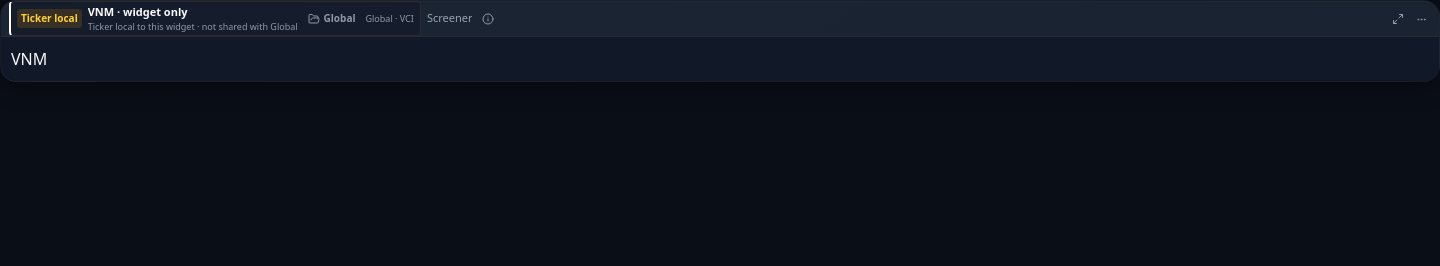
Test: a restored detached ticker overrides the stale lazy widget prop after changing groups
Check: the text named "Widget data ticker" reads "VNM", box [11,48,47,70]
Click the button with aria-label "Ticker group: ". click: click(332, 18)
box: [304,9,360,28]
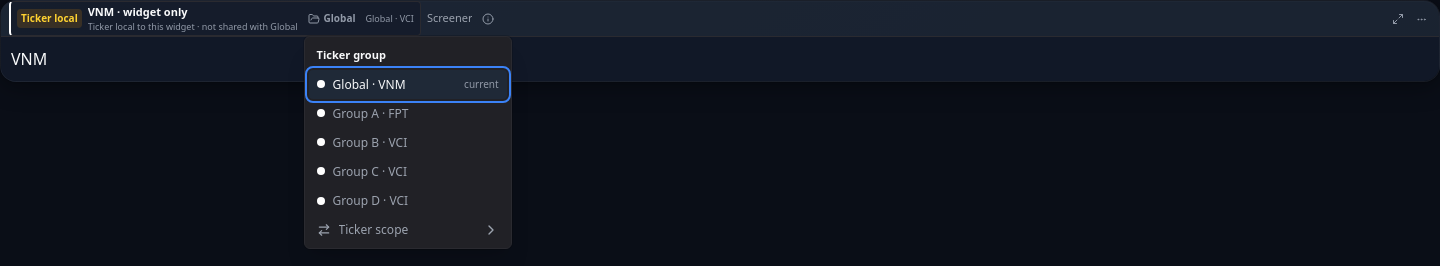
Click the menu item "Group A · FPT". click: click(363, 113)
box: [317,105,408,122]
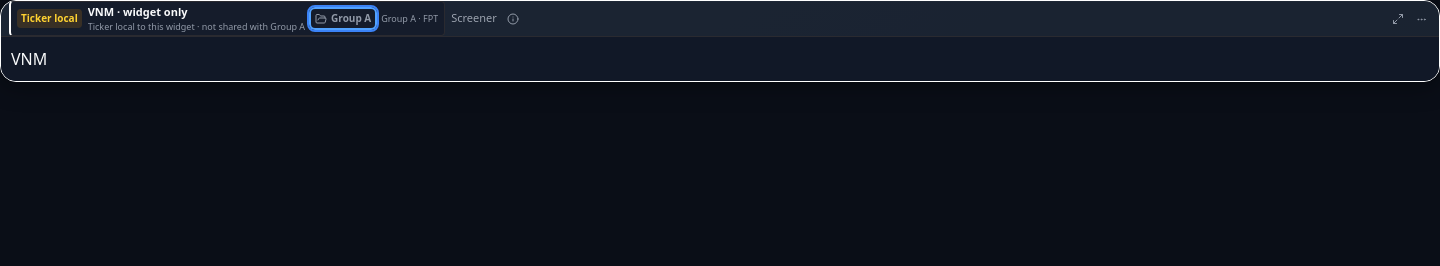
Check: the text named "Widget data ticker" reads "VNM", box [11,48,47,70]
Check: the button with aria-label "Ticker group: Group A, current ticker VNM" is shown, box [311,9,375,28]
